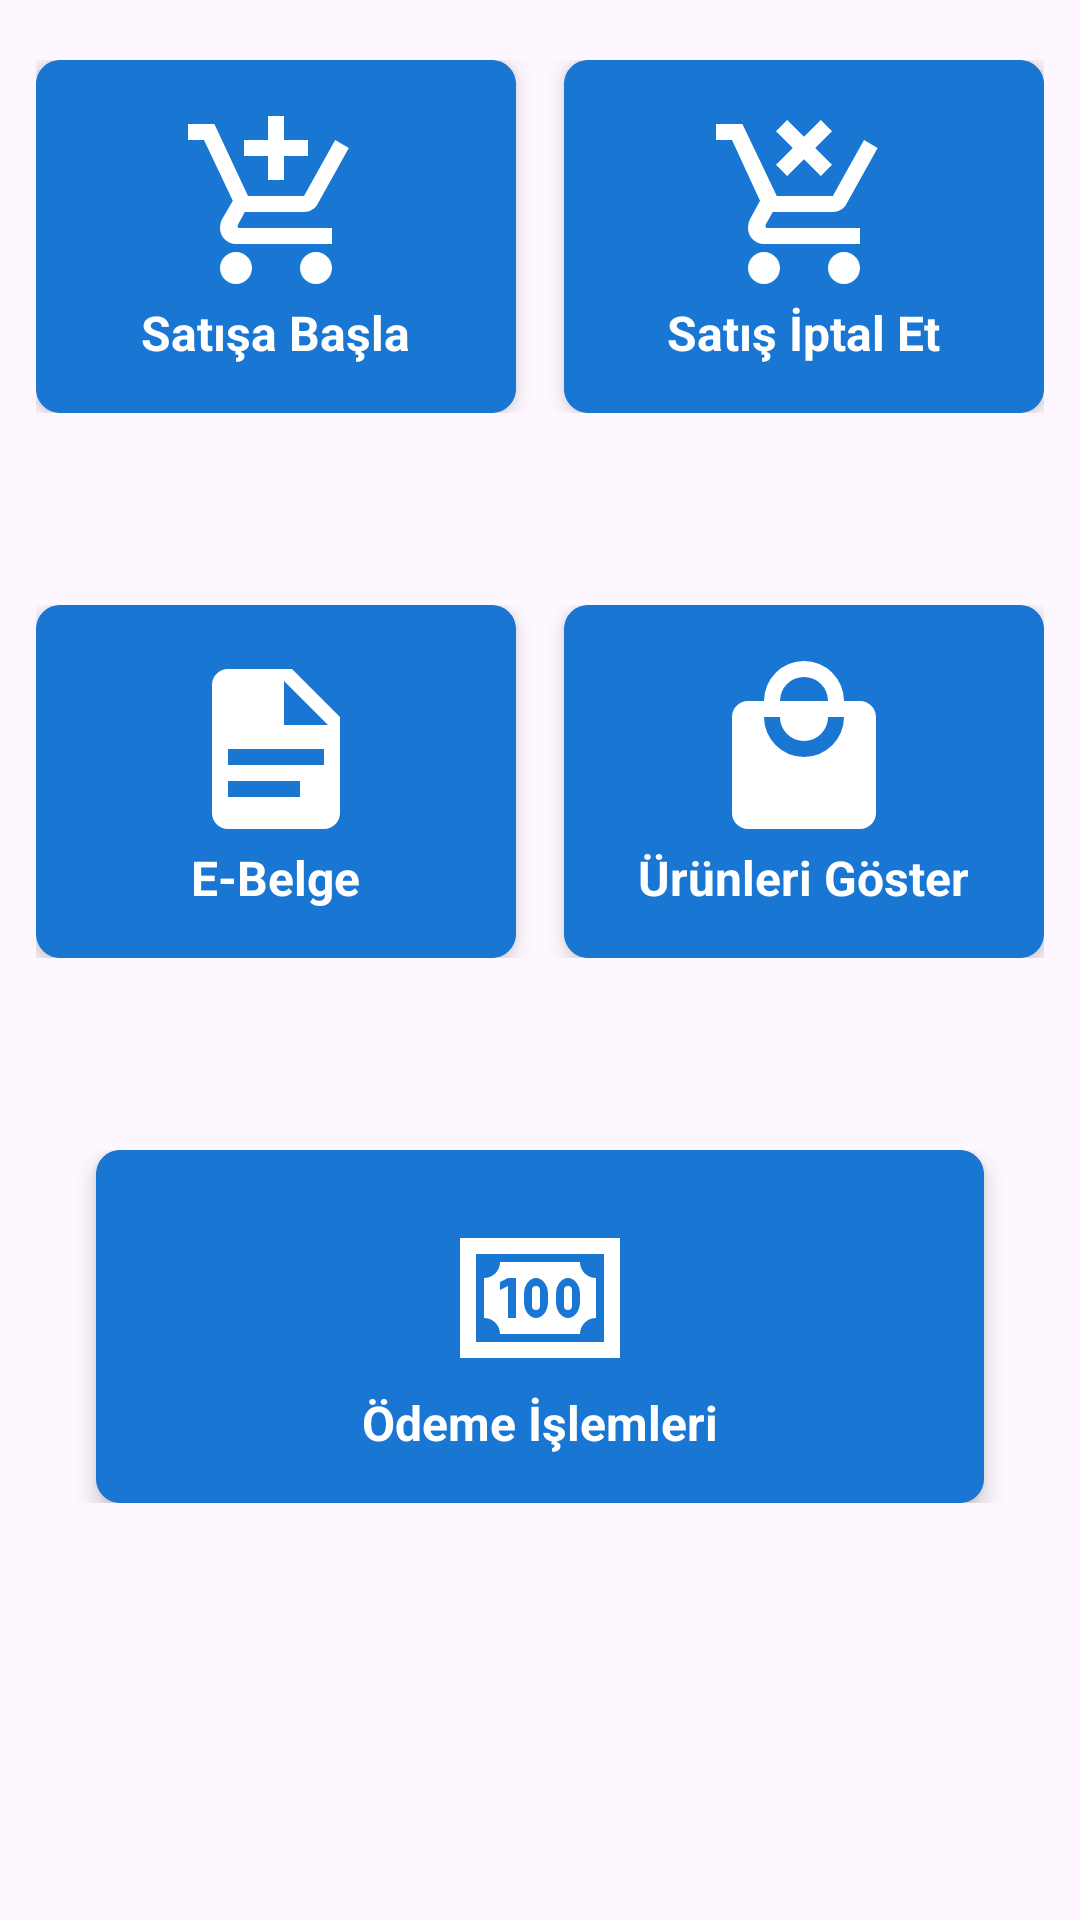

Where to tap for icons on this 1080*1920 app screen, as [x,y]:
cart plus: [268,200]
cart remove: [797,202]
cash: [540,1298]
shopping: [804,745]
